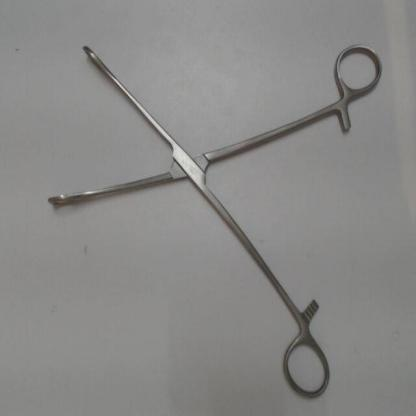Sponge Forceps: (40, 30, 388, 408)
